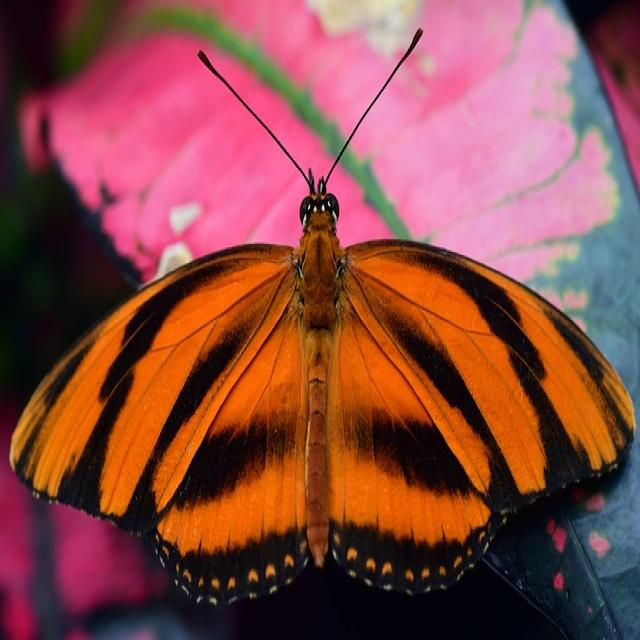butterfly: (8, 193, 636, 610)
